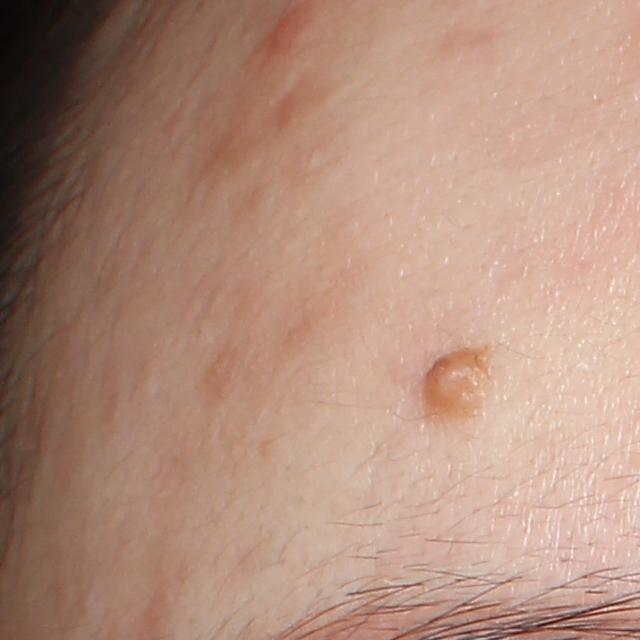other: (406, 331, 499, 433)
